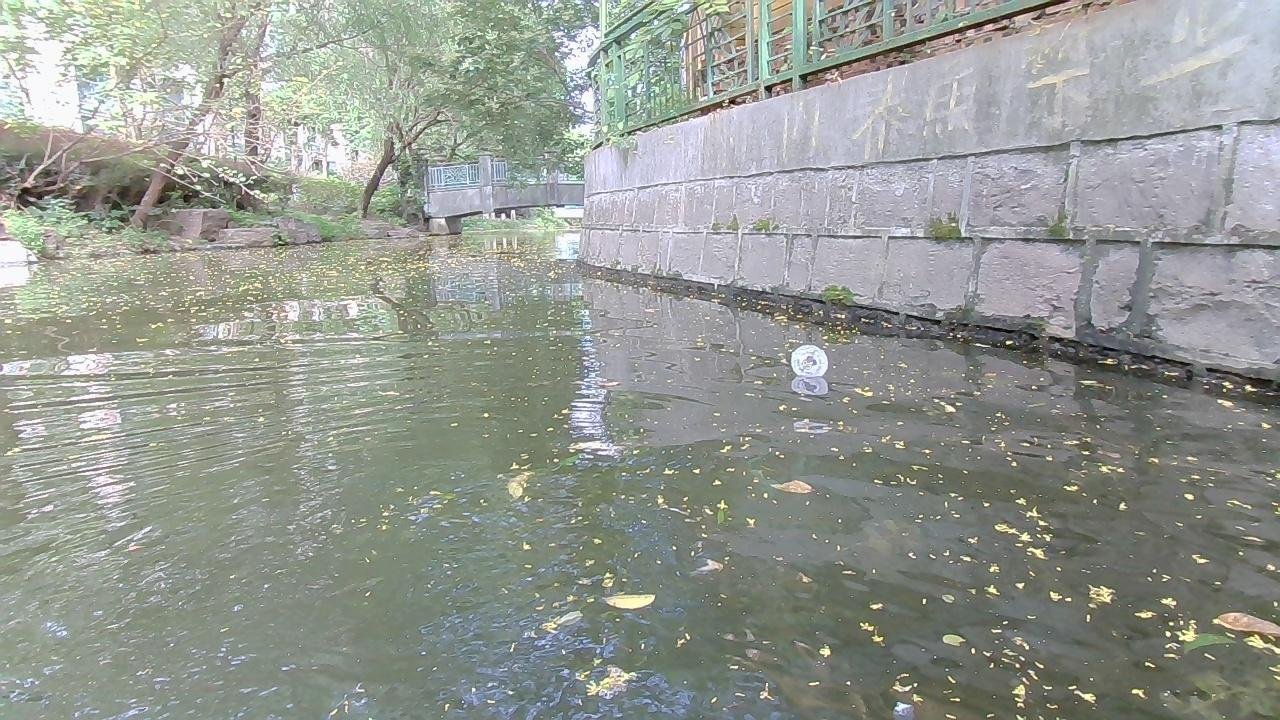bottle: (789, 341, 830, 378)
